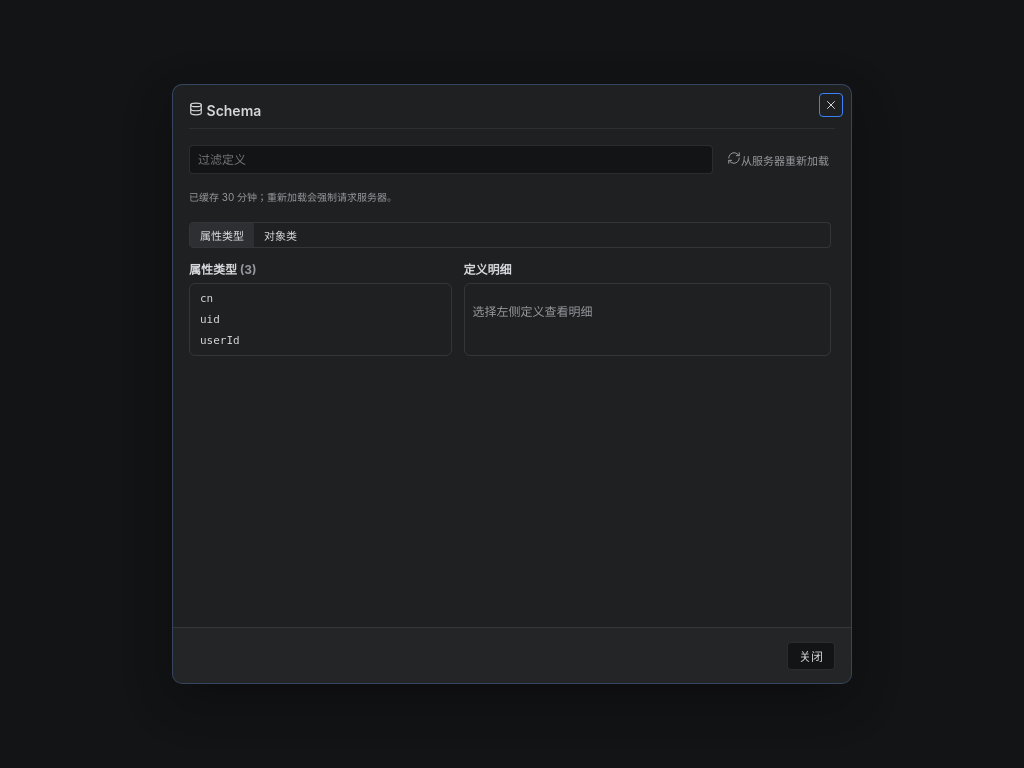
Scenario: SchemaPanel › loads the schema on open and renders the active category list (F2b 页签化)
The width and height of the screenshot is (1024, 768).
Expected: the heading "Schema" is shown, [189,102,261,119]
Expected: the heading "属性类型 (3)" is shown, [189,262,257,276]
Click the tab "对象类".
click(280, 234)  # box [254,222,307,246]
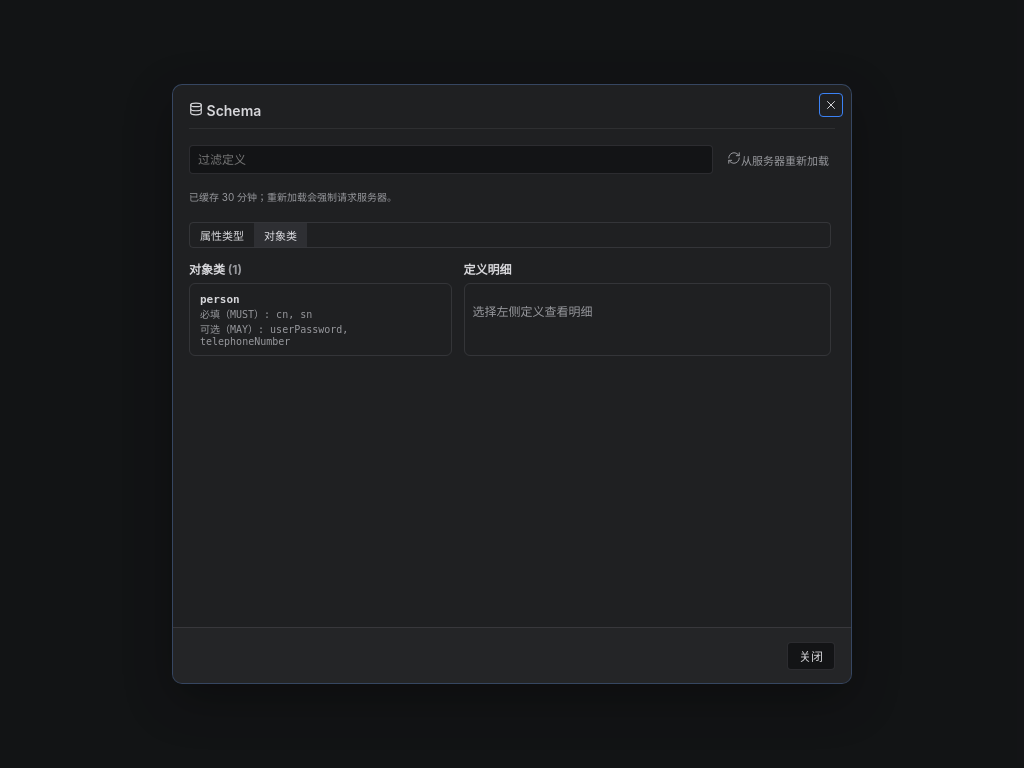
Result: the heading "对象类 (1)" is shown at [189,262,242,276]
Result: the text "person" is shown at [200,292,240,306]
Result: the text "必填（MUST）: cn, sn" is shown at [200,308,312,320]
